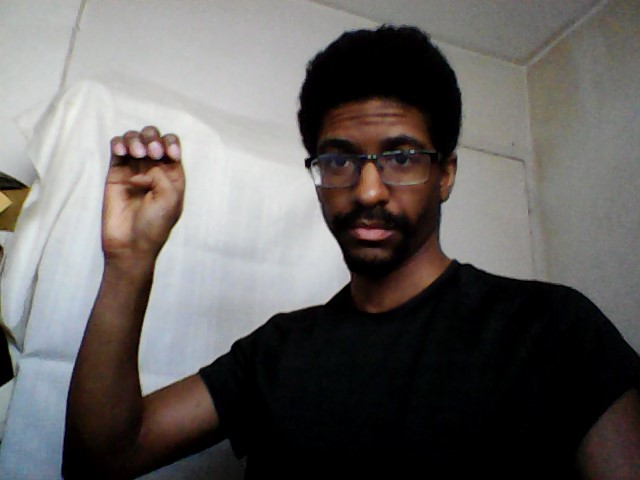e: (97, 122, 190, 268)
